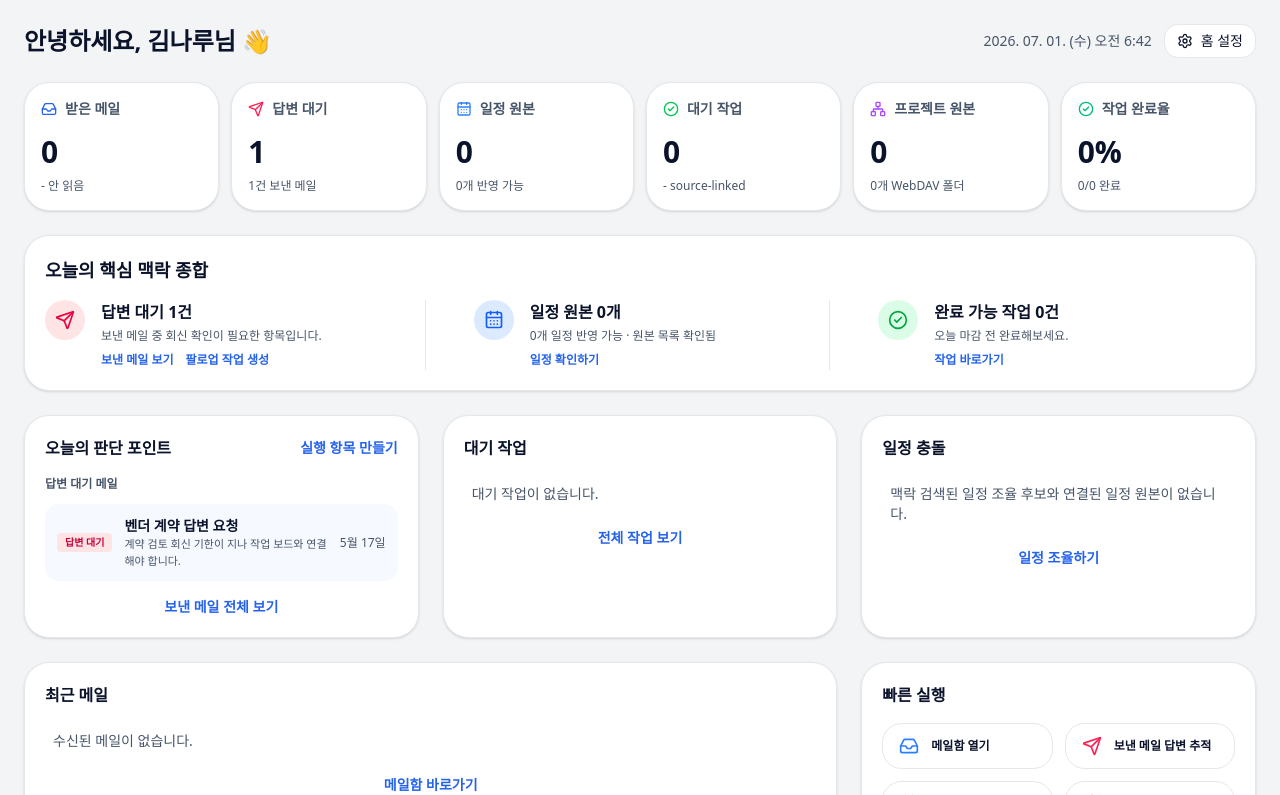
Scenario: WorkspaceHome Today dashboard › creates overdue reply follow-up tasks from the Today dashboard with signed headers
Click the button with aria-label "홈에서 보낸 메일 미답변 팔로업 작업 생성": coordinates (227, 360) 186,352 -> 269,368
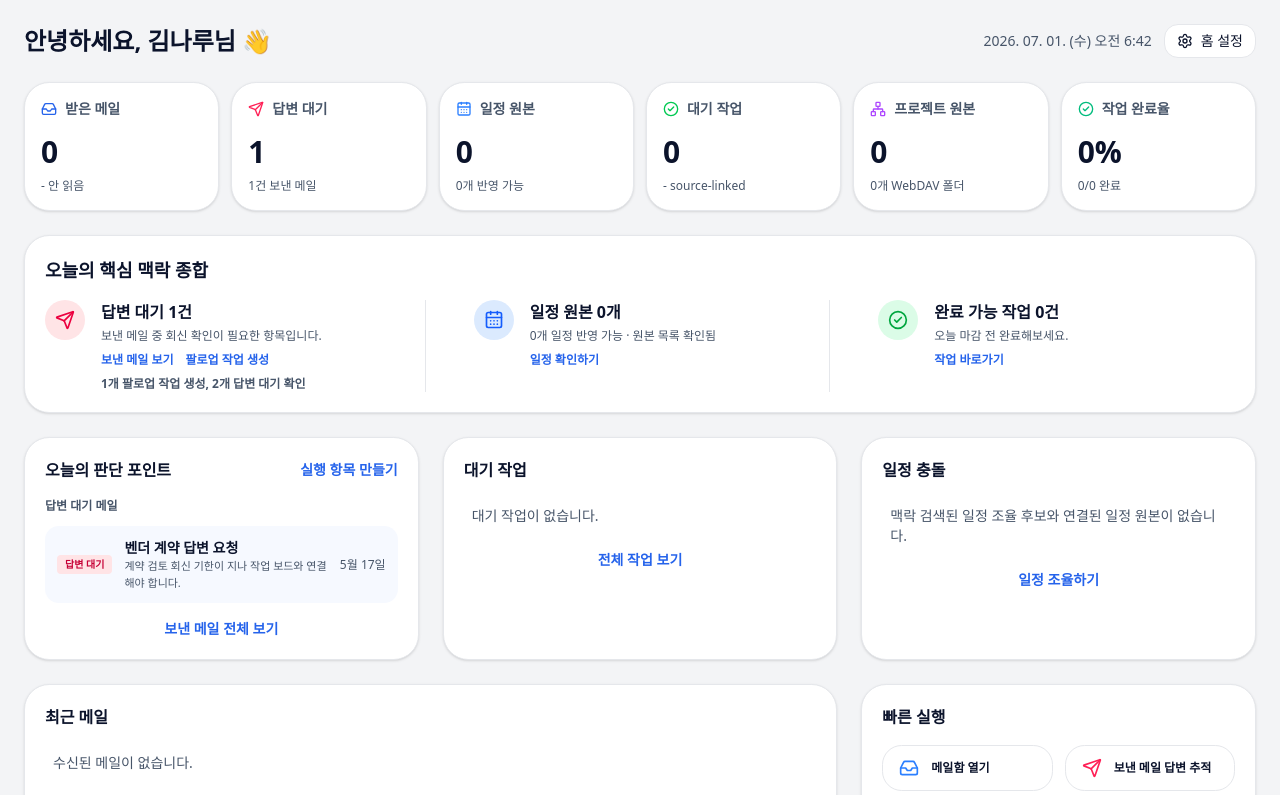
Check: the text "1개 팔로업 작업 생성, 2개 답변 대기 확인" is shown, box 101,376 -> 322,392
